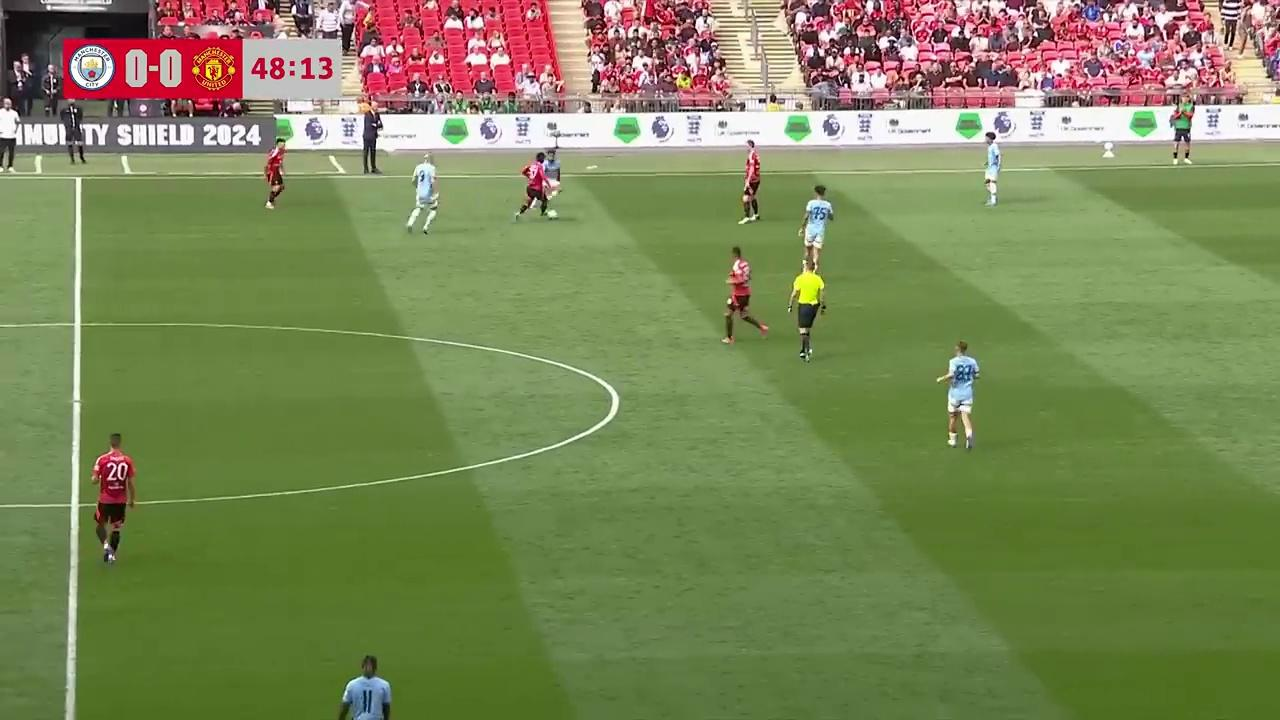ball: (545, 206, 558, 220)
player: (90, 432, 137, 564), (935, 341, 980, 450), (721, 246, 769, 344), (329, 654, 396, 720), (405, 155, 439, 235), (801, 185, 834, 261), (513, 155, 549, 221), (739, 141, 761, 223), (264, 141, 286, 209), (541, 150, 561, 215), (983, 136, 1001, 206)
referee: (787, 257, 827, 361)
